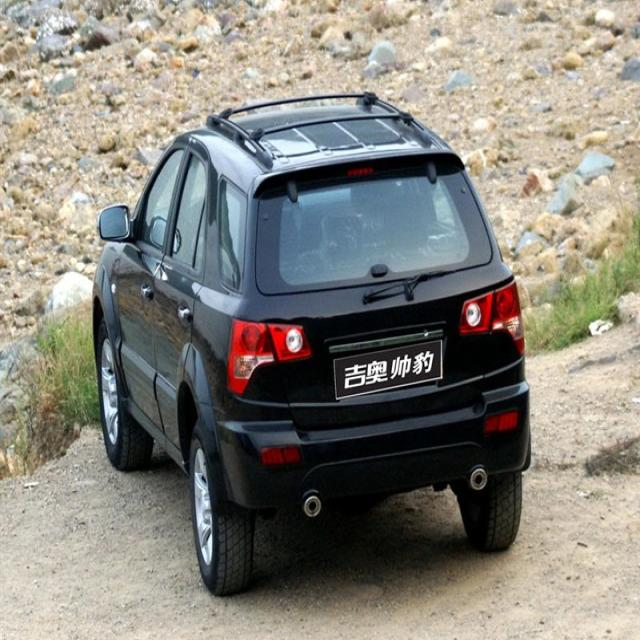back_glass: (258, 160, 490, 294)
back_left_side_light: (224, 313, 310, 397)
back_right_side_light: (459, 280, 529, 354)
door: (127, 154, 183, 422), (157, 156, 208, 450)
front_left_side_mirror: (97, 201, 133, 245)
rear_bumper: (219, 371, 541, 507)
wheel: (189, 436, 257, 597), (96, 317, 158, 471), (454, 476, 524, 552)
